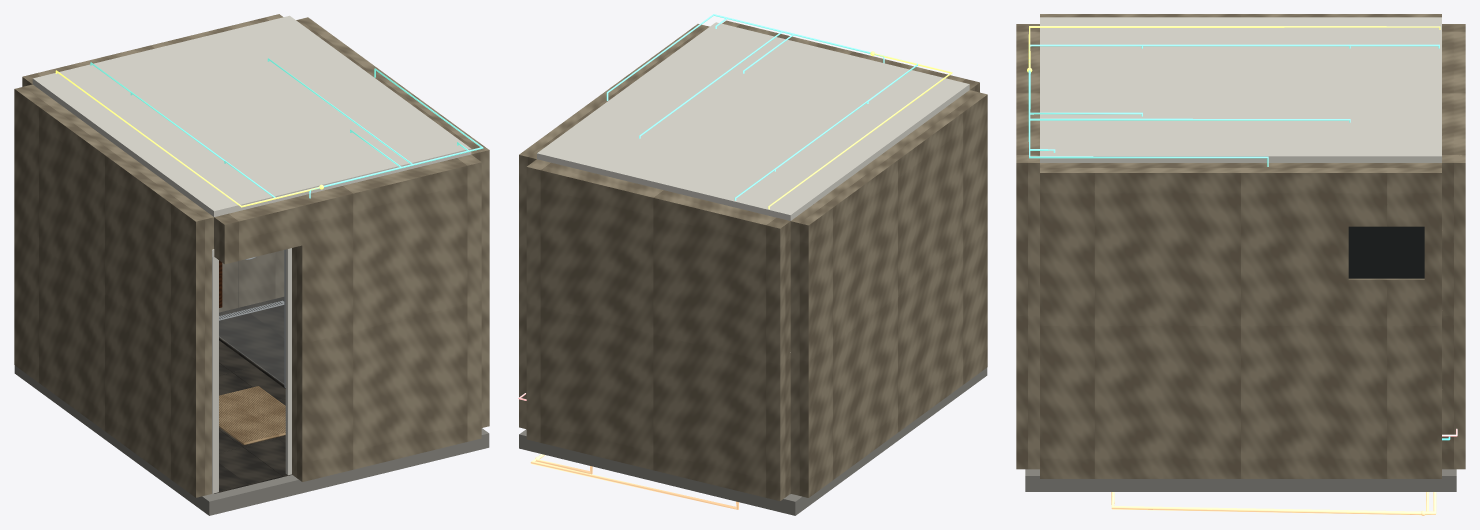
File: 16_Alternatif_6.glb
3 views of the same model, side by side, from view 1: azimuth 30°, elevation 25°; view 2: azimuth 150°, elevation 25°; view 3: azimuth 270°, elevation 25° (orthographic). The views are drawn at different scales.
Visible parts, largest first — view 1: Ön duvar | sunum için gizli, Sol duvar, Tavan | plan görünümünde gizlenir, Kabin yan sabit cam, Zemin taşıyıcı, Sağ duvar / gerçek pencere boşluğu, Arka duvar / gerçek niş boşlukları, Duş eğimli zemin sınırı 85x140, Dokulu banyo paspası, Zemin seramik / derz 2mm, Kapı pervazı, Kapı pervazı.001 (+5 smaller); view 2: Arka duvar / gerçek niş boşlukları, Sol duvar, Tavan | plan görünümünde gizlenir, Zemin taşıyıcı, Sağ duvar / gerçek pencere boşluğu, Ön duvar | sunum için gizli, G1-hat | Lavabo gider çıkışı → ana gider, E8-hat | Duş nişi LED kablo yolu, E-2 | Priz besleme güzergâhı; view 3: Sağ duvar / gerçek pencere boşluğu, Tavan | plan görünümünde gizlenir, Arka duvar / gerçek niş boşlukları, Ön duvar | sunum için gizli, Zemin taşıyıcı, Havalandırma karanlık iç boşluğu, Sol duvar, G2-hat | WC gider çıkışı → ana gider, E8-hat | Duş nişi LED kablo yolu, E-2 | Priz besleme güzergâhı, E-3 | Ayna aydınlatma güzergâhı, E-7 | Tavan ışığı 4 güzergâhı.
Part boxes in pixels (bbox=[...]): Ön duvar | sunum için gizli: bbox=[214, 154, 481, 481]; Sol duvar: bbox=[14, 84, 213, 497]; Tavan | plan görünümünde gizlenir: bbox=[32, 15, 471, 216]; Kabin yan sabit cam: bbox=[219, 250, 283, 383]; Zemin taşıyıcı: bbox=[14, 365, 489, 515]; Sağ duvar / gerçek pencere boşluğu: bbox=[296, 17, 489, 427]; Arka duvar / gerçek niş boşlukları: bbox=[22, 14, 284, 312]; Duş eğimli zemin sınırı 85x140: bbox=[219, 297, 285, 388]; Dokulu banyo paspası: bbox=[219, 386, 285, 445]; Zemin seramik / derz 2mm: bbox=[214, 447, 282, 493]; Kapı pervazı: bbox=[212, 257, 218, 493]; Kapı pervazı.001: bbox=[285, 248, 291, 475]; Arka duvar / gerçek niş boşlukları: bbox=[526, 159, 790, 501]; Sol duvar: bbox=[790, 90, 987, 497]; Tavan | plan görünümünde gizlenir: bbox=[537, 22, 969, 220]; Zemin taşıyıcı: bbox=[519, 367, 987, 515]; Sağ duvar / gerçek pencere boşluğu: bbox=[519, 24, 709, 429]; Ön duvar | sunum için gizli: bbox=[722, 20, 979, 92]; G1-hat | Lavabo gider çıkışı → ana gider: bbox=[530, 458, 738, 509]; E8-hat | Duş nişi LED kablo yolu: bbox=[606, 14, 870, 100]; E-2 | Priz besleme güzergâhı: bbox=[768, 53, 952, 209]; Sağ duvar / gerçek pencere boşluğu: bbox=[1040, 163, 1441, 478]; Tavan | plan görünümünde gizlenir: bbox=[1040, 17, 1441, 162]; Arka duvar / gerçek niş boşlukları: bbox=[1442, 24, 1465, 469]; Ön duvar | sunum için gizli: bbox=[1016, 24, 1039, 469]; Zemin taşıyıcı: bbox=[1025, 469, 1456, 491]; Havalandırma karanlık iç boşluğu: bbox=[1348, 226, 1424, 278]; Sol duvar: bbox=[1040, 14, 1441, 17]; G2-hat | WC gider çıkışı → ana gider: bbox=[1111, 492, 1421, 515]; E8-hat | Duş nişi LED kablo yolu: bbox=[1028, 70, 1268, 166]; E-2 | Priz besleme güzergâhı: bbox=[1028, 26, 1440, 67]; E-3 | Ayna aydınlatma güzergâhı: bbox=[1029, 44, 1439, 65]; E-7 | Tavan ışığı 4 güzergâhı: bbox=[1029, 73, 1350, 122].
Size of the model in its own units: 2.57 by 2.72 by 3.07.
22 materials, 4 textured.
